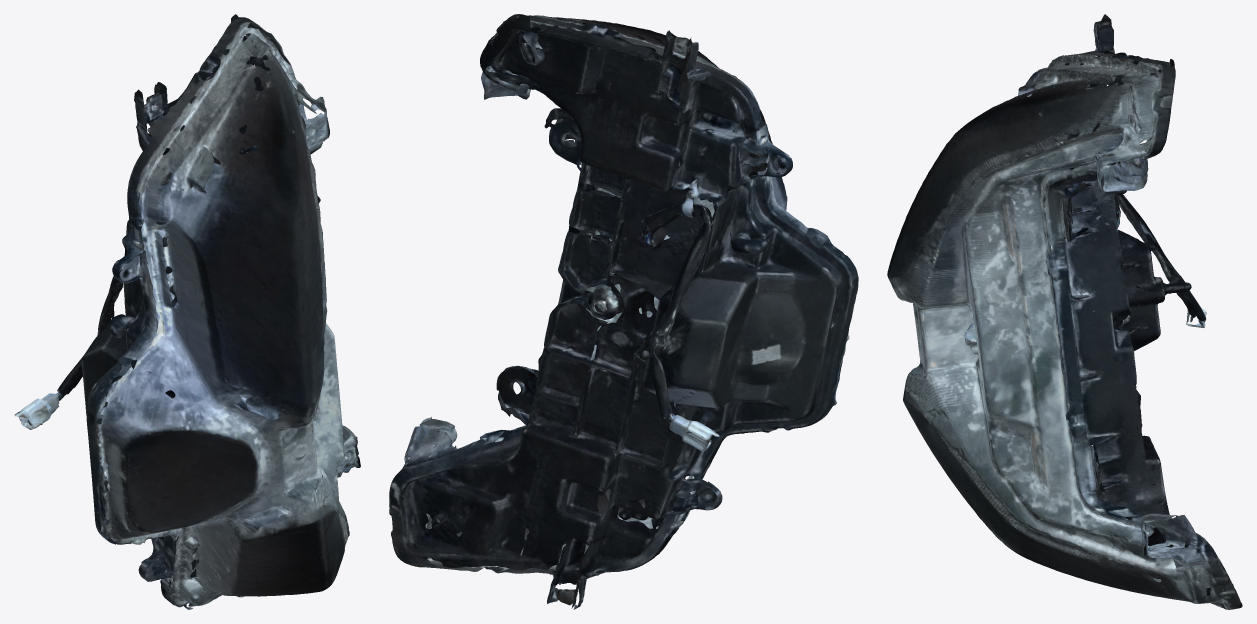
The model's file is SPD-33100X-B.obj.
The picture shows the model from 3 angles, left to right: view 1: azimuth 30°, elevation 25°; view 2: azimuth 150°, elevation 25°; view 3: azimuth 270°, elevation 25°; orthographic projection. The views are drawn at different scales.
Parts seen in each view (by area): view 1: SPD-33100X-B; view 2: SPD-33100X-B; view 3: SPD-33100X-B.
Boxes of the visible parts, x1,y1,x2,y2 form: SPD-33100X-B: (14, 14, 360, 609); SPD-33100X-B: (389, 14, 858, 609); SPD-33100X-B: (887, 14, 1242, 609).
Size of the model in its own units: 288 by 458 by 268.
Materials: 1 (1 with a texture image).
